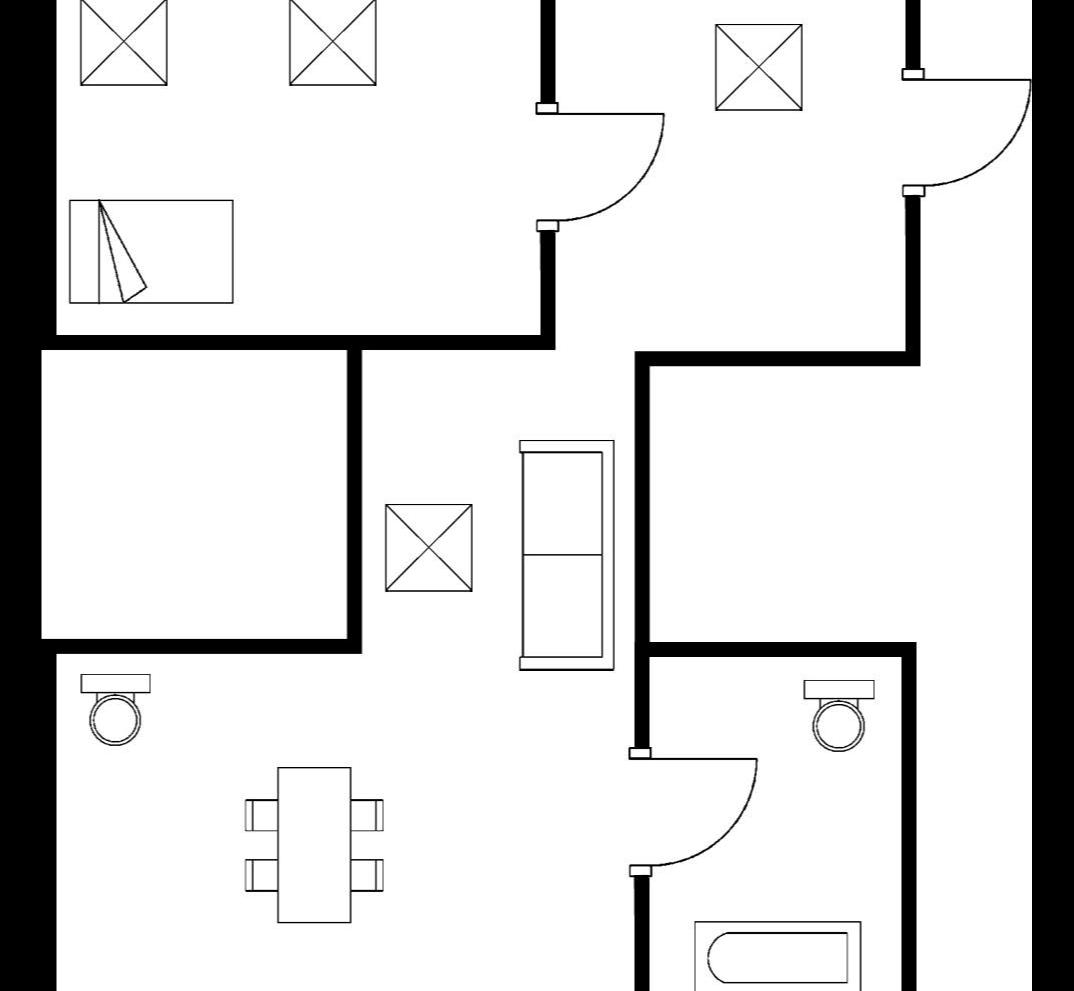bed: (64, 194, 242, 314)
dining_table: (238, 758, 395, 932)
sofa: (511, 431, 623, 680)
toilet: (74, 666, 158, 756), (794, 674, 882, 758)
tub: (689, 913, 869, 991)
